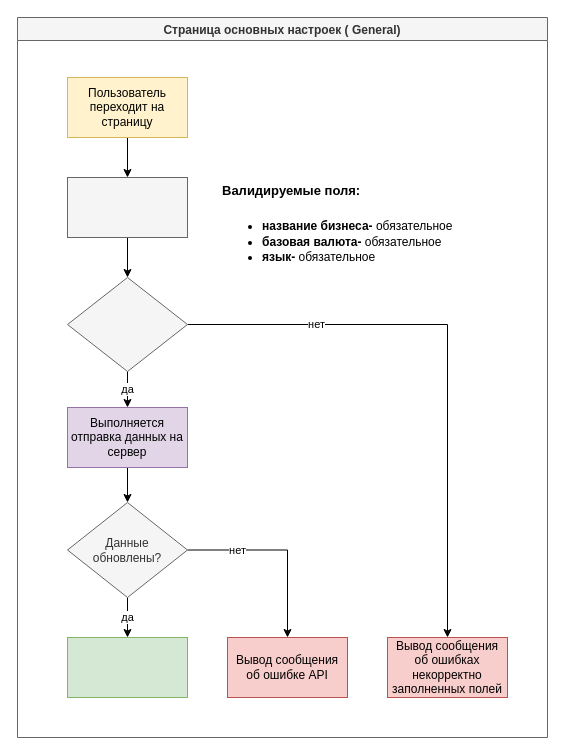
Some shapes in this 571 by 755 pixel diagram are drawn without their labels. Each missing label, with the box of its shape:
Вывод сообщения об успешном изменении настроек: (66, 636, 188, 698)
Данные валидны?: (66, 276, 188, 372)
Заполнение данных и отправка формы: (66, 176, 188, 238)
